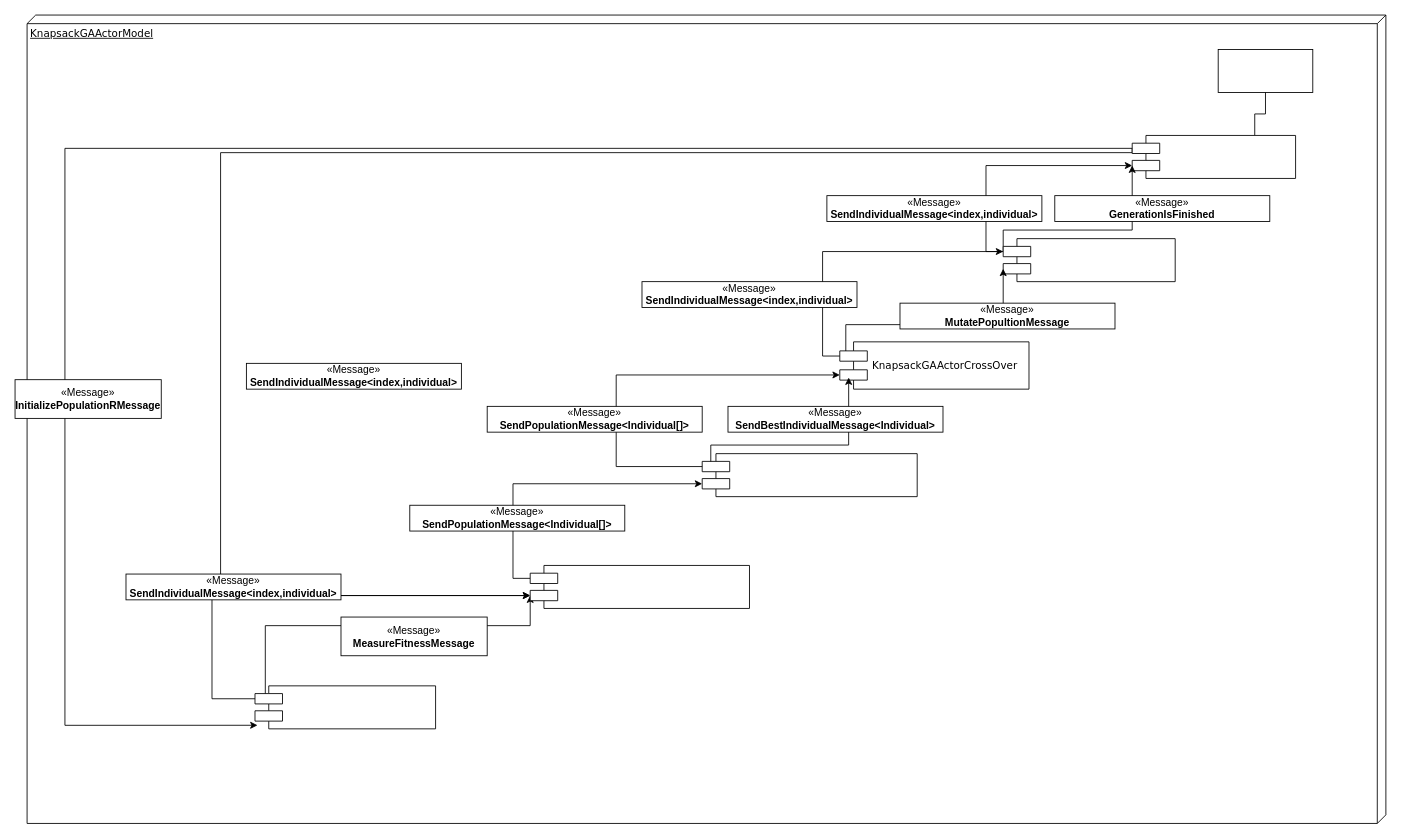
Image size: 1401x839. Some labels were removed from this diagram. The centre of each missing label's shape, as x and y in pixels:
"KnapsackGAActorBestIndividual" belongs at [809,475].
"KnapsackGAActorInitializer" belongs at [345,707].
"KnapsackGAActorMeasureFitness" belongs at [639,586].
"KnapsackGAActorMutate" belongs at [1088,260].
"KnapsackGAManager" belongs at [1213,156].
"Main" belongs at [1265,70].
